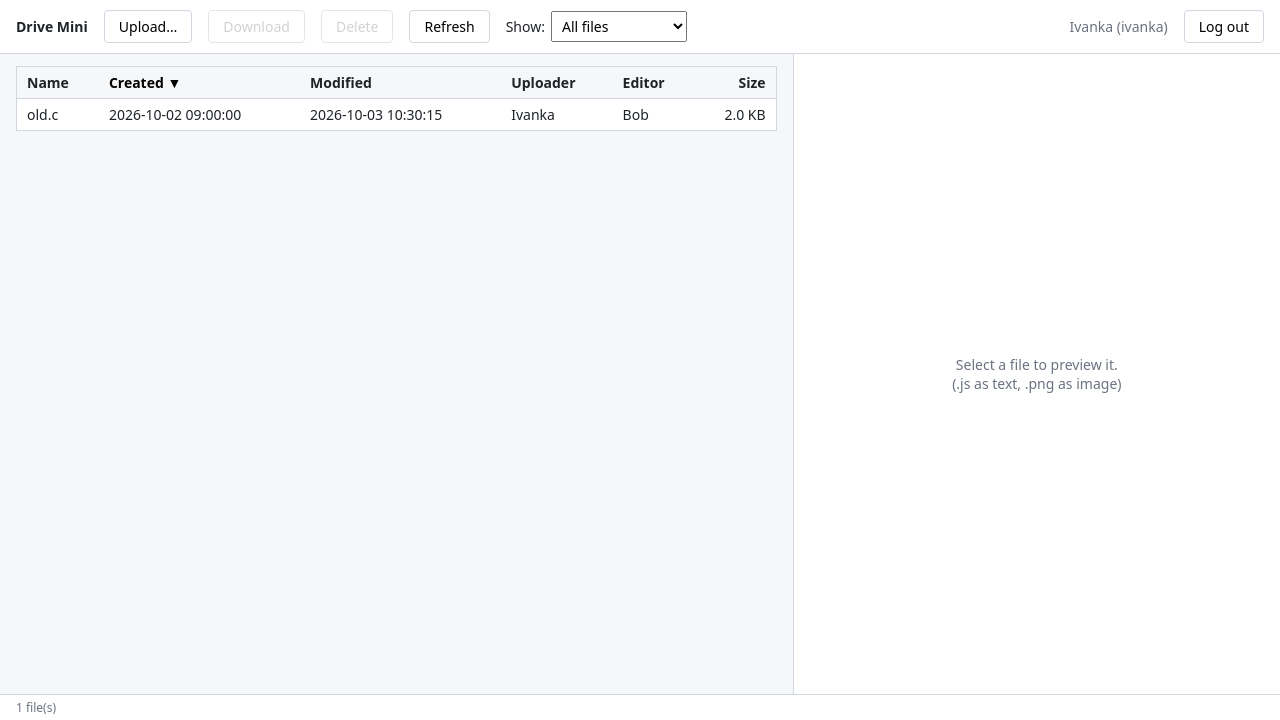
Test: Delete asks, removes the file and refreshes
The width and height of the screenshot is (1280, 720).
Click the text "old.c" at coordinates (58, 114), box left=16, top=98, right=99, bottom=130
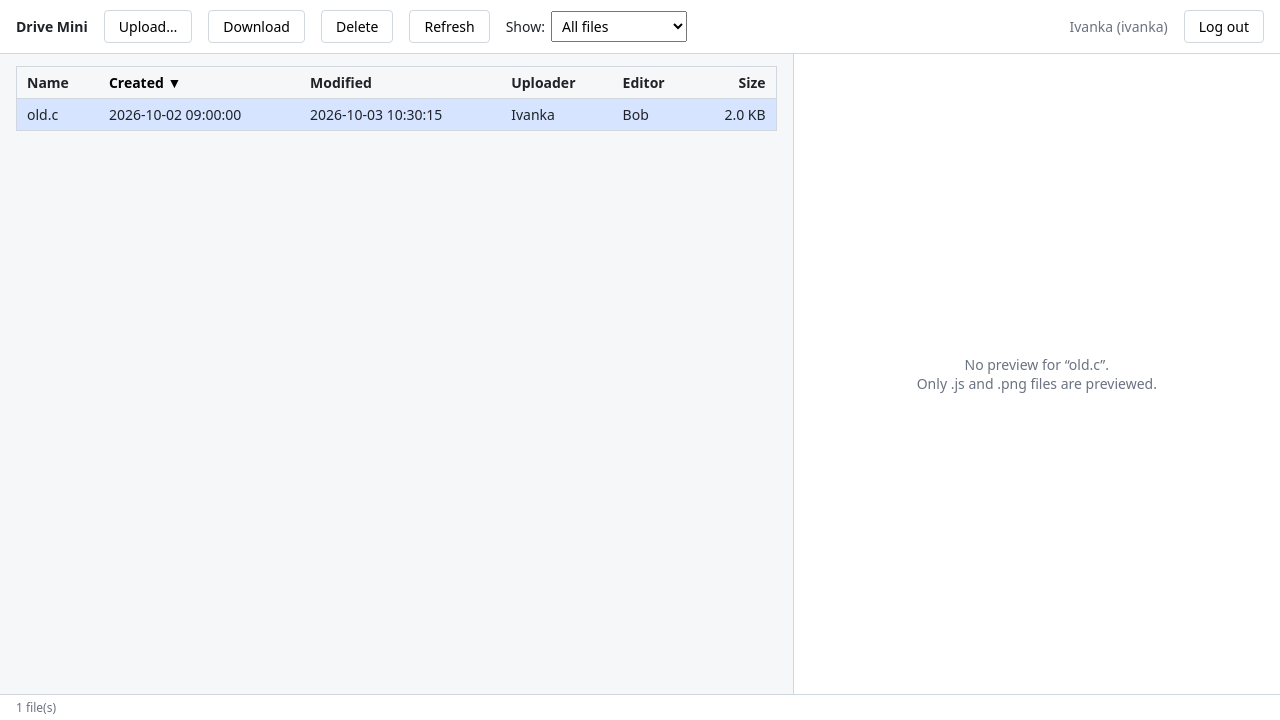
Click the button "Delete" at coordinates (357, 26), box left=321, top=10, right=394, bottom=43
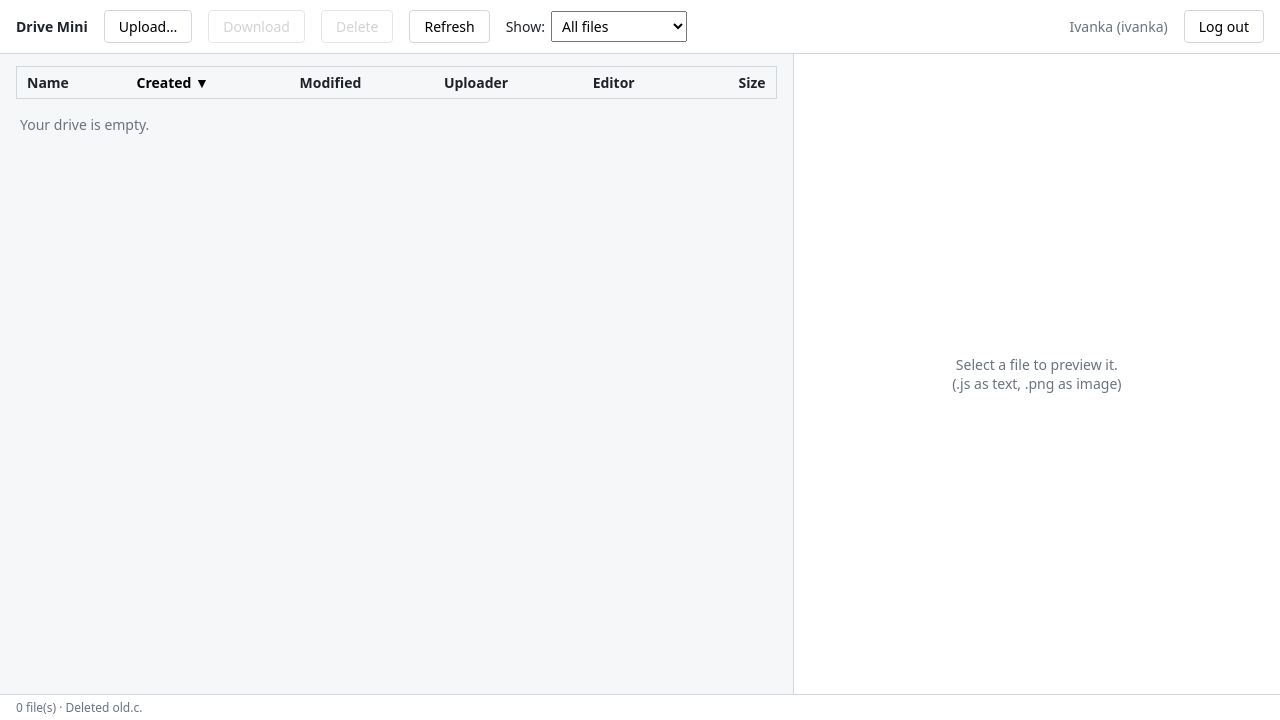
Now the text "Your drive is empty." is shown, box left=20, top=115, right=149, bottom=134
Now the button "Delete" is disabled, box left=321, top=10, right=394, bottom=43
